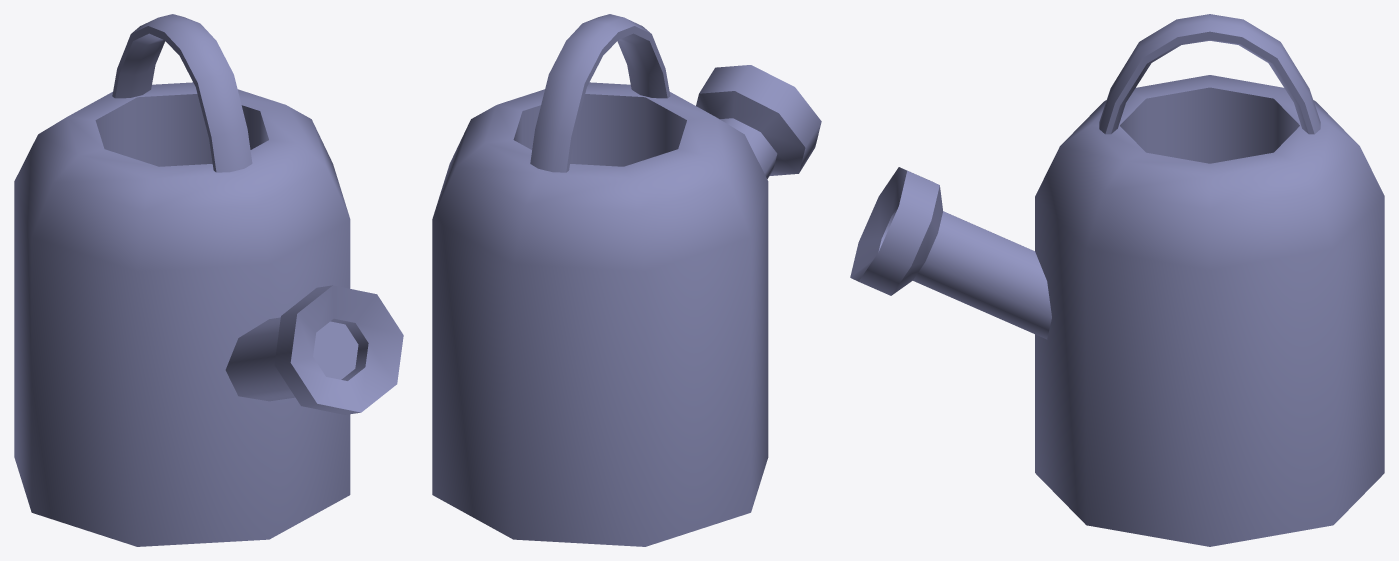
Rendered from SM_Gießkanne.fbx.
The picture shows the model from 3 angles, left to right: view 1: azimuth 30°, elevation 25°; view 2: azimuth 150°, elevation 25°; view 3: azimuth 270°, elevation 25°; orthographic projection.
Visible parts, largest first — view 1: Gießkanne; view 2: Gießkanne; view 3: Gießkanne.
Part boxes in pixels (x1,y1,x2,y2): Gießkanne: [14, 14, 403, 546]; Gießkanne: [432, 14, 821, 546]; Gießkanne: [850, 14, 1384, 546].
Bounding box in the file's own units: 124 × 81.29 × 117.
